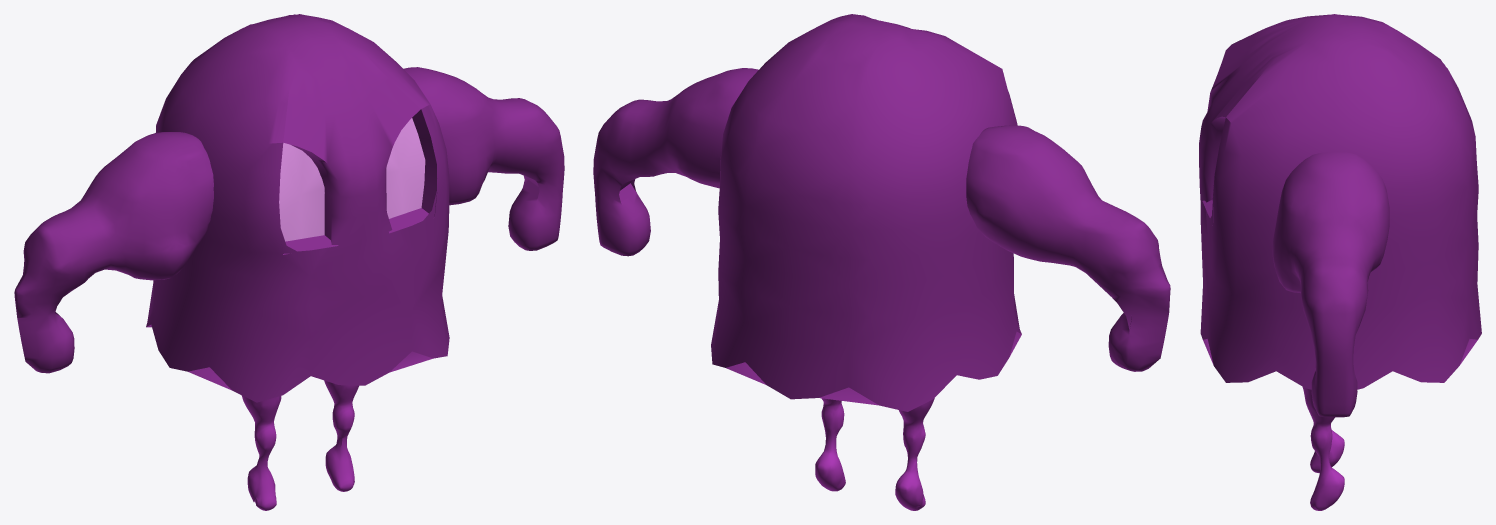
File: ghost.obj
3 renders of one model, left to right at view 1: azimuth 30°, elevation 25°; view 2: azimuth 150°, elevation 25°; view 3: azimuth 270°, elevation 25°, orthographic. The views are drawn at different scales.
Parts seen in each view (by area): view 1: ghost_Cube; view 2: ghost_Cube; view 3: ghost_Cube.
Boxes of the visible parts, x1,y1,x2,y2 form: ghost_Cube: [14, 14, 564, 510]; ghost_Cube: [593, 14, 1170, 510]; ghost_Cube: [1199, 14, 1481, 510].
Bounding box in the file's own units: 5.45 × 4.41 × 2.43.
